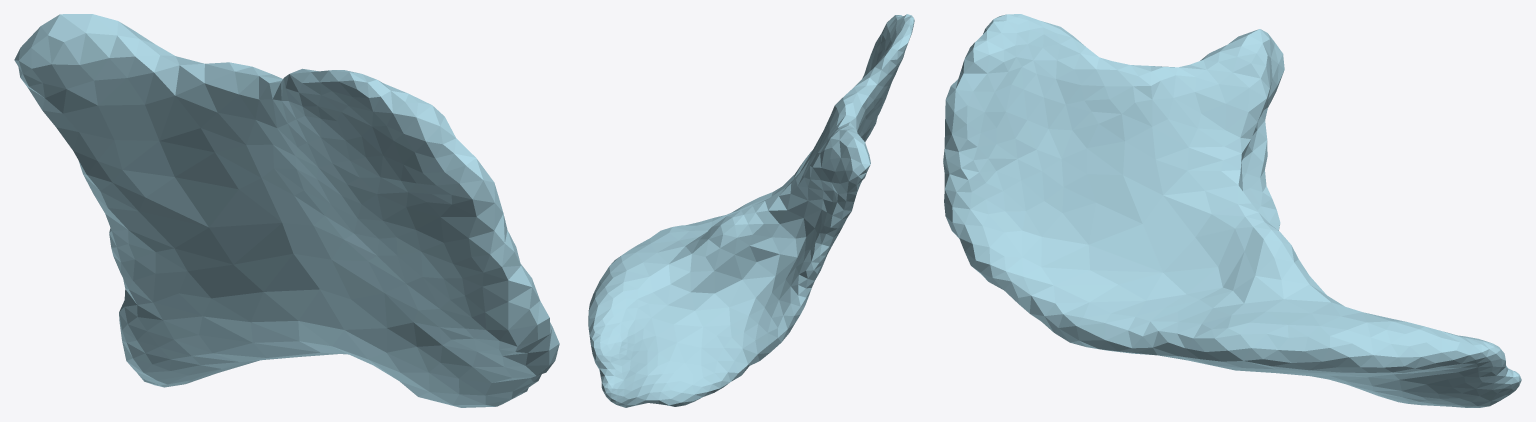
The model's file is rightsurrenalgland.obj.
3 views of the same model, side by side, from view 1: azimuth 30°, elevation 25°; view 2: azimuth 150°, elevation 25°; view 3: azimuth 270°, elevation 25° (orthographic). The views are drawn at different scales.
Parts seen in each view (by area): view 1: grp1; view 2: grp1; view 3: grp1.
Part boxes in pixels (x1=…): grp1: x1=14, y1=14, x2=559, y2=407; grp1: x1=588, y1=14, x2=914, y2=407; grp1: x1=943, y1=14, x2=1521, y2=407.
Bounding box in the file's own units: 29.16 × 33.88 × 50.8.
